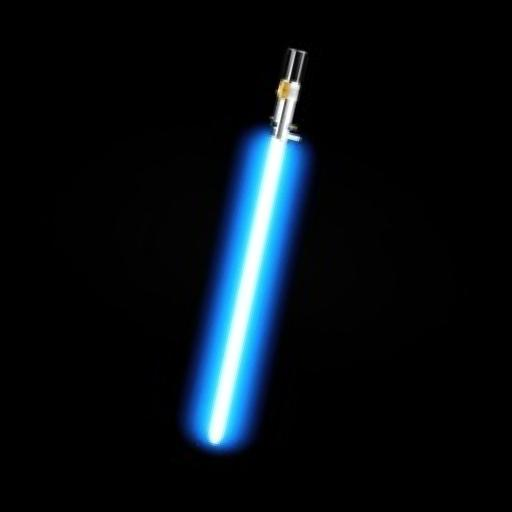lightsaber: (196, 47, 320, 448)
